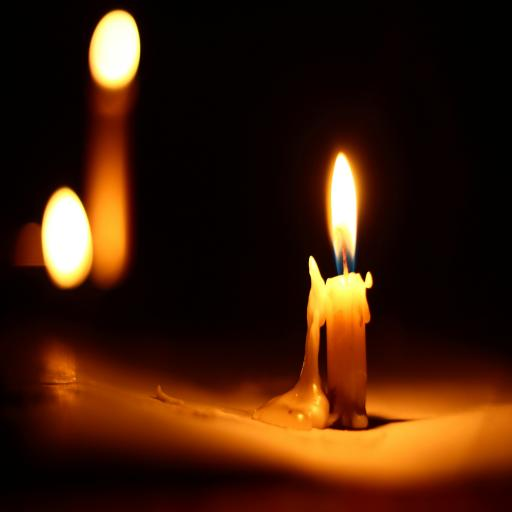candlelight: (290, 128, 396, 443)
